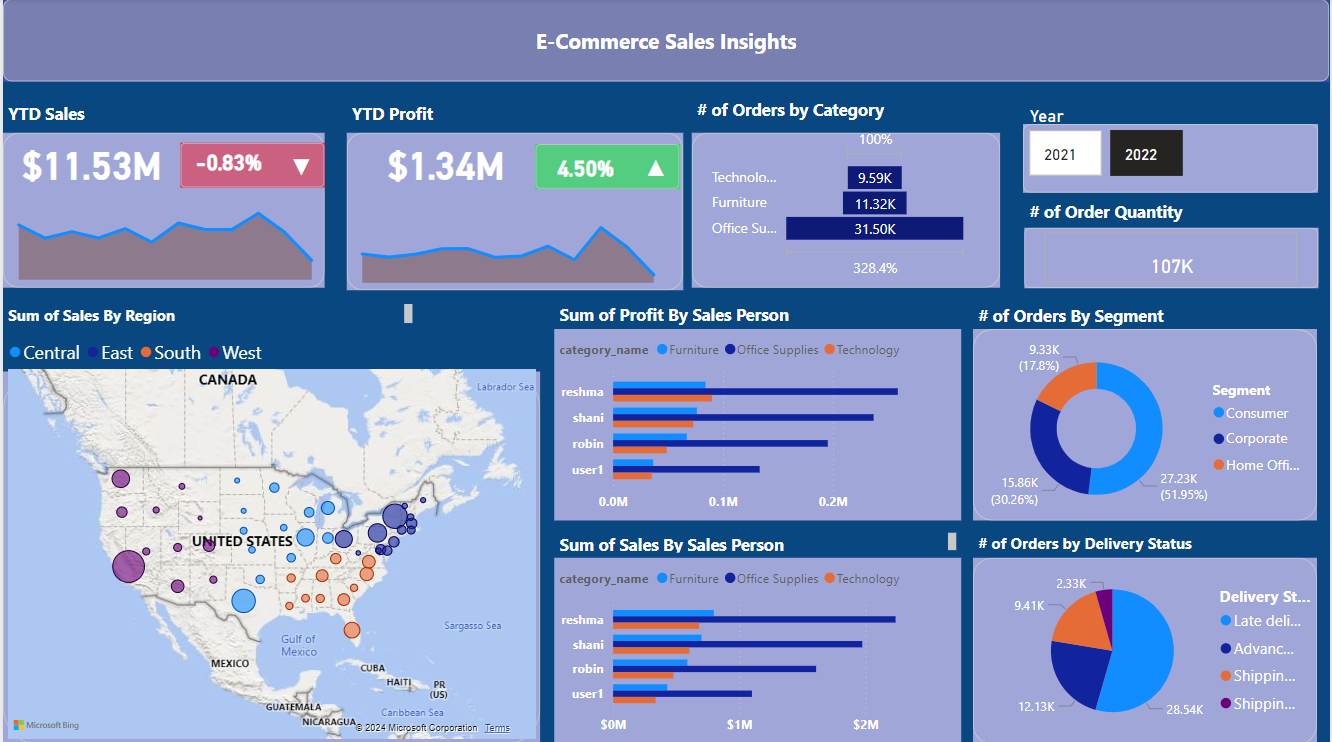

The page's visual inventory and layout, read from the dashboard file:
{"tool":"powerbi","page":{"name":"Page 1","canvas":[1280,720],"ordinal":0},"visuals":[{"type":"shape","box":[0,359.7,518.7,361.2],"z":0},{"type":"shape","box":[0,129.3,310.5,149.5],"z":1000},{"type":"shape","box":[171.3,138.9,138.9,43.2],"z":2000},{"type":"shape","box":[0,0,1280,79.6],"z":3000},{"type":"card","fields":{"Values":["ecommerce_data_transformed.SalesYTD"]},"box":[0,134.3,171.3,47.9],"z":4000},{"type":"areaChart","fields":{"Category":["DateDim.MonthName"],"Y":["Sum(ecommerce_data_transformed.sales_per_order)"]},"box":[0,182.2,313.4,94.2],"z":5000},{"type":"card","fields":{"Values":["ecommerce_data_transformed.YoY Sales"]},"box":[176,134.3,83.4,47.9],"z":6000},{"type":"textbox","box":[0,93.8,135.6,38],"z":7000},{"type":"shape","box":[332,129.3,324.4,152.1],"z":8000},{"type":"shape","box":[514,140.5,138.9,43.2],"z":9000},{"type":"card","fields":{"Values":["ecommerce_data_transformed.Profit YTD"]},"box":[342.7,134.3,169.8,47.9],"z":10000},{"type":"areaChart","fields":{"Category":["DateDim.MonthName"],"Y":["Sum(ecommerce_data_transformed.profit_per_order)"]},"box":[331.9,205.3,311.8,74.1],"z":11000},{"type":"card","fields":{"Values":["ecommerce_data_transformed.YoY Profit"]},"box":[520.2,140.5,84.9,47.9],"z":12000},{"type":"card","fields":{"Values":["ecommerce_data_transformed.Profit Icon"]},"box":[605.1,140.5,49.4,47.9],"z":13000},{"type":"textbox","box":[332,93.8,168.6,35.5],"z":14000},{"type":"card","fields":{"Values":["ecommerce_data_transformed.Sales Icon"]},"box":[262.4,138.9,50.9,47.9],"z":15000},{"type":"map","fields":{"Y":["us_state_long_lat_codes.latitude"],"X":["us_state_long_lat_codes.longitude"],"Series":["ecommerce_data_transformed.customer_region"],"Size":["Sum(ecommerce_data_transformed.sales_per_order)"]},"box":[0,318.1,519.6,401.7],"z":16000},{"type":"clusteredBarChart","fields":{"Category":["sales_person_details.sales_person_name"],"Y":["Sum(ecommerce_data_transformed.profit_per_order)"],"Series":["ecommerce_data_transformed.category_name"]},"box":[532.3,318.1,392.9,185],"z":17000},{"type":"clusteredBarChart","fields":{"Category":["sales_person_details.sales_person_name"],"Y":["Sum(ecommerce_data_transformed.sales_per_order)"],"Series":["ecommerce_data_transformed.category_name"]},"box":[532.3,539.9,392.9,180],"z":18000},{"type":"shape","box":[936.6,539.9,332,180],"z":19000},{"type":"pieChart","fields":{"Category":["ecommerce_data_transformed.delivery_status"],"Y":["CountNonNull(ecommerce_data_transformed.order_id)"]},"box":[963.2,539.9,305.4,180],"z":20000},{"type":"shape","box":[984.5,120.6,284.7,66.4],"z":21000},{"type":"advancedSlicerVisual","fields":{"Values":["DateDim.Year"]},"box":[985.7,102.5,238.9,73.6],"z":22000},{"type":"shape","box":[936.6,318.1,332,185],"z":23000},{"type":"donutChart","fields":{"Category":["ecommerce_data_transformed.customer_segment"],"Y":["CountNonNull(ecommerce_data_transformed.order_id)"]},"box":[939.1,318.1,330.8,192.6],"z":24000},{"type":"shape","box":[665.3,129.3,297.8,149.5],"z":25000},{"type":"funnel","fields":{"Category":["ecommerce_data_transformed.category_name"],"Y":["CountNonNull(ecommerce_data_transformed.order_id)"]},"box":[679.2,120.4,257.8,152.8],"z":26000},{"type":"shape","box":[986,220.5,283.9,58.3],"z":27000},{"type":"cardVisual","fields":{"Data":["Sum(ecommerce_data_transformed.order_quantity)"]},"box":[999.9,220.5,254.7,58.3],"z":28000},{"type":"textbox","box":[100.3,100.3,299.5,58.7],"z":29000},{"type":"textbox","box":[110.3,110.3,299.5,58.7],"z":30000},{"type":"textbox","box":[120.3,120.3,299.5,58.7],"z":31000},{"type":"textbox","box":[665.3,91.1,297.9,38.6],"z":32000},{"type":"textbox","box":[532.6,288.7,392.1,46.3],"z":33000},{"type":"textbox","box":[532.3,510.7,392.9,29.1],"z":34000},{"type":"textbox","box":[936.6,289,318.1,46.9],"z":35000},{"type":"textbox","box":[936.6,510.7,332,43.1],"z":36000},{"type":"textbox","box":[0,289,400.5,29.1],"z":37000},{"type":"textbox","box":[986,188.8,268.7,31.7],"z":38000}]}

Visuals, with their boxes in screenshot pixels (x1, y1, x2, y2), scaled from the page's 1280x720 canvas onto the 1332x742 screenshot:
shape: detection(0, 371, 540, 741)
shape: detection(0, 133, 323, 287)
shape: detection(178, 143, 323, 188)
shape: detection(0, 0, 1331, 82)
card - ecommerce_data_transformed.SalesYTD: detection(0, 138, 178, 188)
areaChart - DateDim.MonthName x Sum(ecommerce_data_transformed.sales_per_order): detection(0, 188, 326, 285)
card - ecommerce_data_transformed.YoY Sales: detection(183, 138, 270, 188)
textbox: detection(0, 97, 141, 136)
shape: detection(345, 133, 683, 290)
shape: detection(535, 145, 679, 189)
card - ecommerce_data_transformed.Profit YTD: detection(357, 138, 533, 188)
areaChart - DateDim.MonthName x Sum(ecommerce_data_transformed.profit_per_order): detection(345, 212, 670, 288)
card - ecommerce_data_transformed.YoY Profit: detection(541, 145, 630, 194)
card - ecommerce_data_transformed.Profit Icon: detection(630, 145, 681, 194)
textbox: detection(345, 97, 521, 133)
card - ecommerce_data_transformed.Sales Icon: detection(273, 143, 326, 193)
map - us_state_long_lat_codes.latitude x us_state_long_lat_codes.longitude: detection(0, 328, 541, 741)
clusteredBarChart - sales_person_details.sales_person_name x Sum(ecommerce_data_transformed.profit_per_order): detection(554, 328, 963, 518)
clusteredBarChart - sales_person_details.sales_person_name x Sum(ecommerce_data_transformed.sales_per_order): detection(554, 556, 963, 741)
shape: detection(975, 556, 1320, 741)
pieChart - ecommerce_data_transformed.delivery_status x CountNonNull(ecommerce_data_transformed.order_id): detection(1002, 556, 1320, 741)
shape: detection(1024, 124, 1321, 193)
advancedSlicerVisual - DateDim.Year: detection(1026, 106, 1274, 181)
shape: detection(975, 328, 1320, 518)
donutChart - ecommerce_data_transformed.customer_segment x CountNonNull(ecommerce_data_transformed.order_id): detection(977, 328, 1321, 526)
shape: detection(692, 133, 1002, 287)
funnel - ecommerce_data_transformed.category_name x CountNonNull(ecommerce_data_transformed.order_id): detection(707, 124, 975, 282)
shape: detection(1026, 227, 1321, 287)
cardVisual - Sum(ecommerce_data_transformed.order_quantity): detection(1041, 227, 1306, 287)
textbox: detection(104, 103, 416, 164)
textbox: detection(115, 114, 426, 174)
textbox: detection(125, 124, 437, 184)
textbox: detection(692, 94, 1002, 134)
textbox: detection(554, 298, 962, 345)
textbox: detection(554, 526, 963, 556)
textbox: detection(975, 298, 1306, 346)
textbox: detection(975, 526, 1320, 571)
textbox: detection(0, 298, 417, 328)
textbox: detection(1026, 195, 1306, 227)
